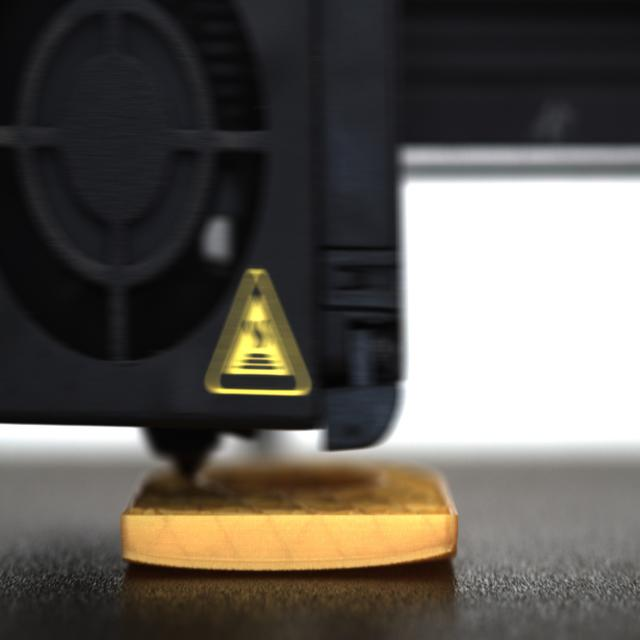Warping: (356, 538, 461, 576)
